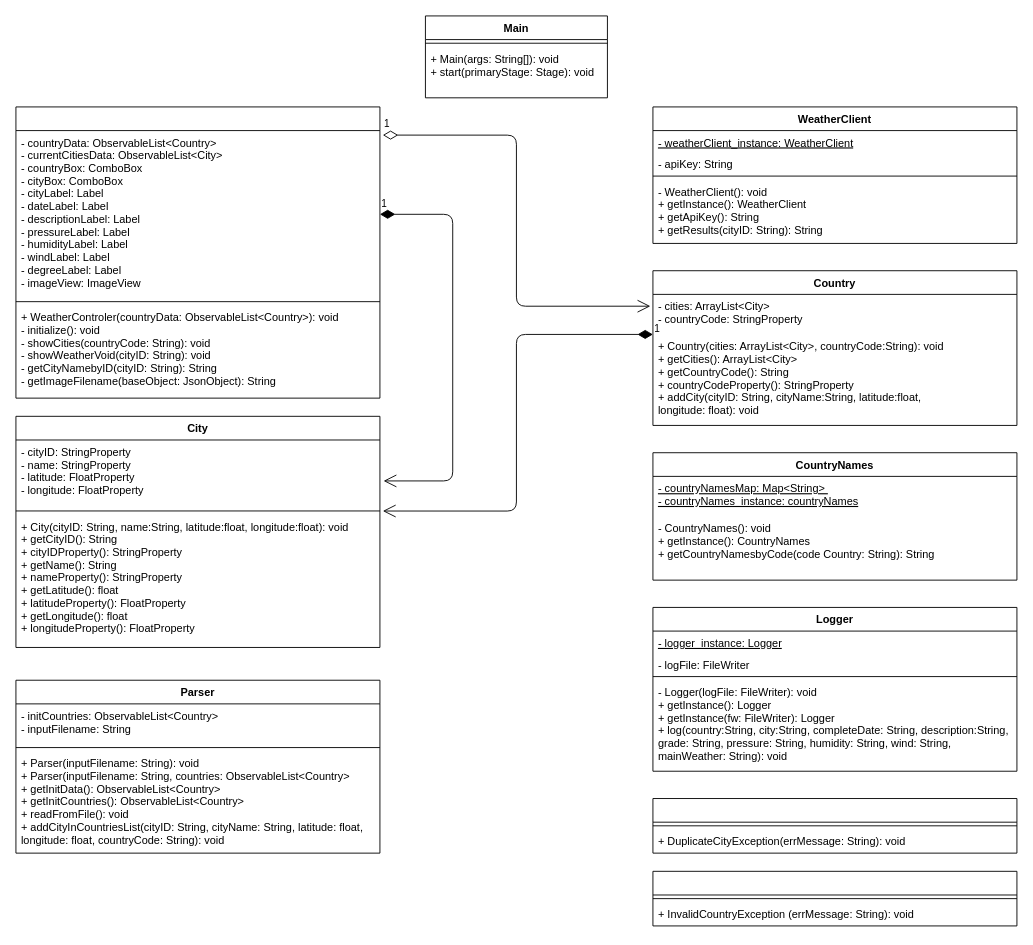
Image size: 1033x945. Some labels were removed from this diagram. Here are the shapes that lost their labels. From the top down, the box of each, then its label:
(15, 106, 380, 398): WeatherController
(652, 798, 1017, 853): DuplicateCityException extends Exception
(652, 870, 1017, 926): InvalidCountryException extends Exception
